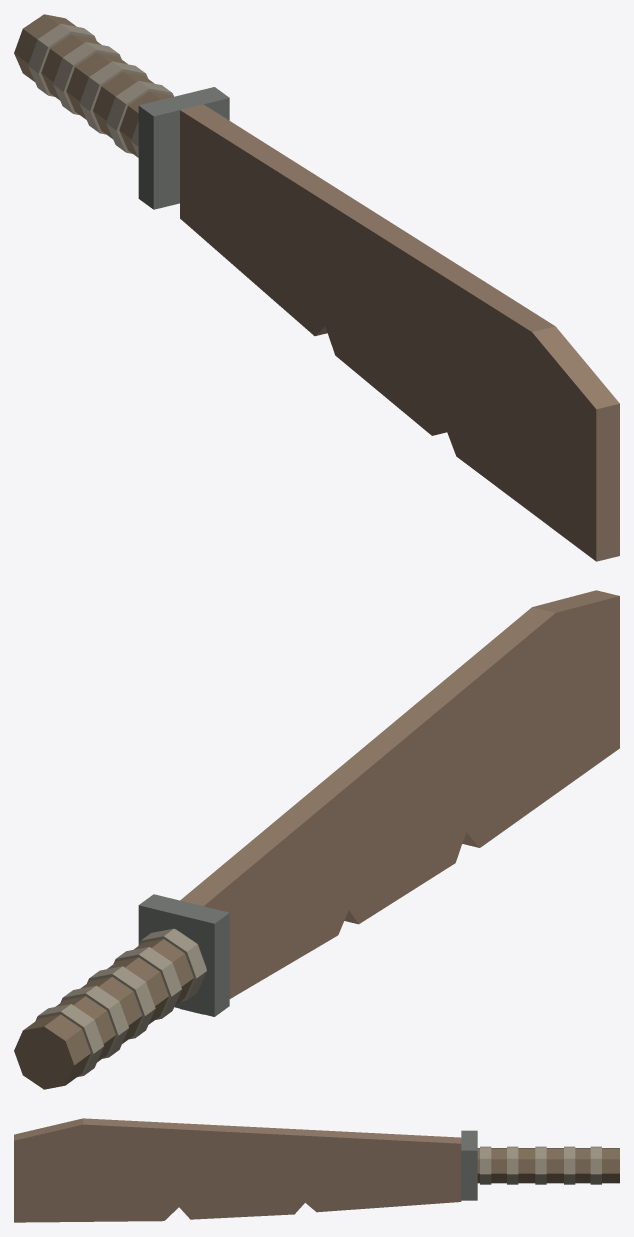
Rendered from cleaver_bandit.glb.
3 views of the same model, one above another, from view 1: azimuth 30°, elevation 25°; view 2: azimuth 150°, elevation 25°; view 3: azimuth 270°, elevation 25° (orthographic). The views are drawn at different scales.
Size of the model in its own units: 0.058 by 0.133 by 0.745.
